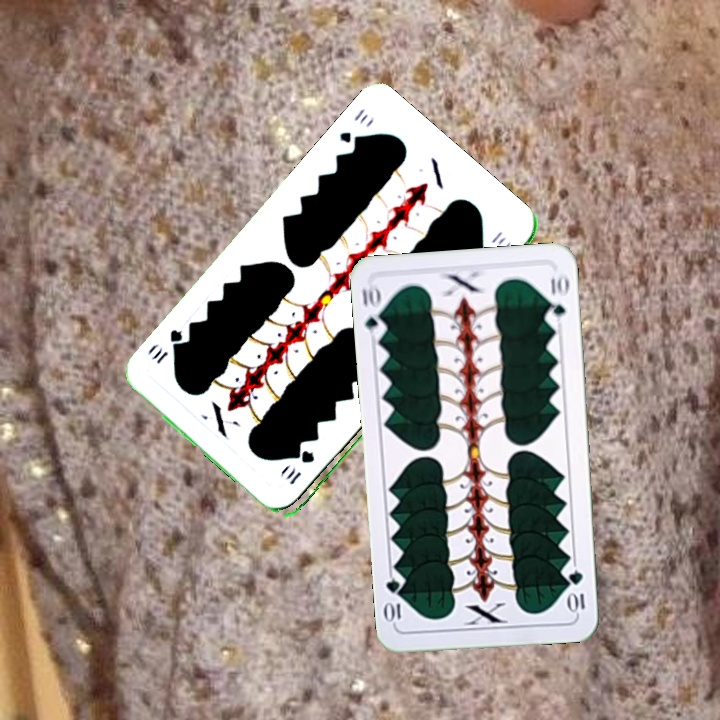G10: (357, 281, 388, 340), (335, 104, 370, 151), (281, 448, 317, 488), (565, 566, 587, 616)
